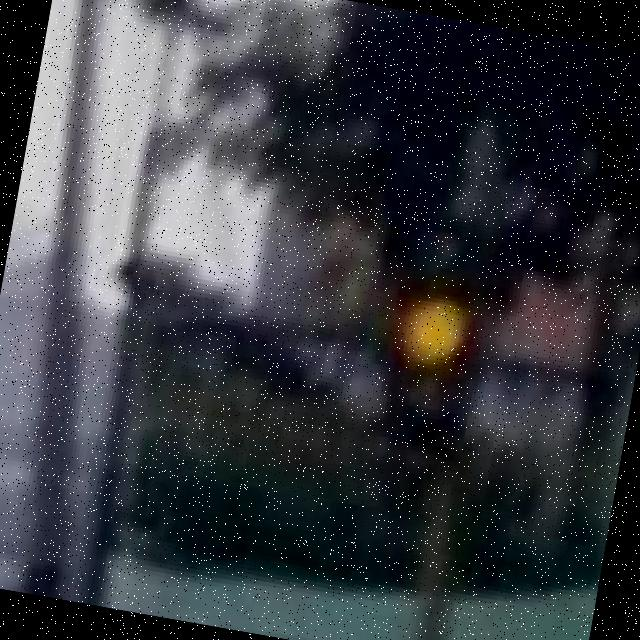Zolte swiatlo: (367, 212, 497, 463)
